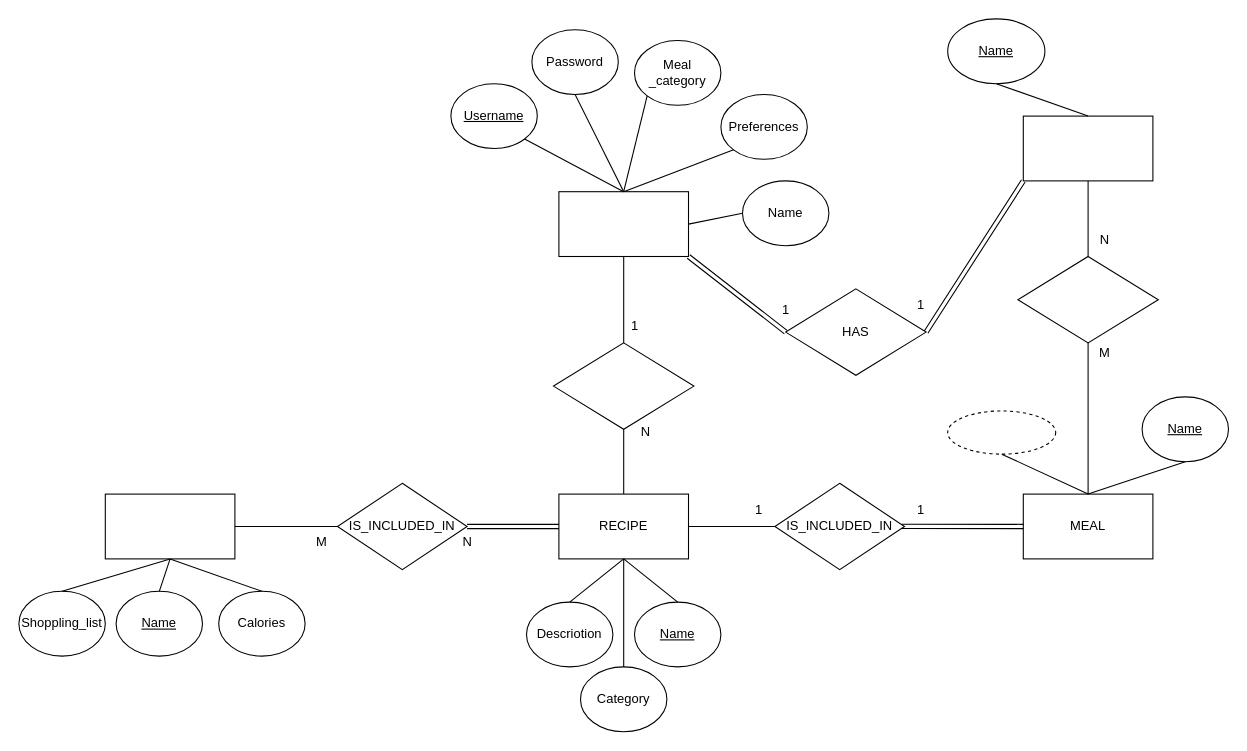
The diagram is 1247 pixels wide and 751 high, and some of its shapes have lost their labels. Each missing label, with the centre of its shape:
"CALENDER" belongs at [1087,148].
"CONTAINS" belongs at [1087,299].
"CREATES" belongs at [623,385].
"INGREDIENT" belongs at [169,526].
"Total_calories" belongs at [1001,432].
"USER" belongs at [623,223].
